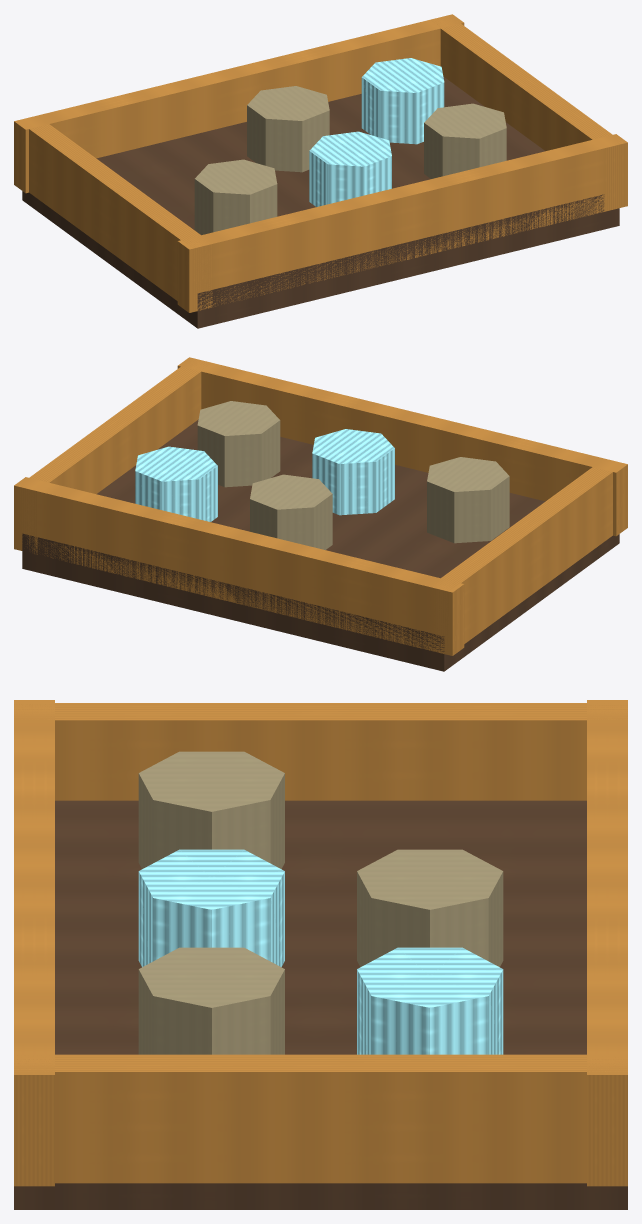
The model's file is atlas100-s014-a03.lod1.glb.
3 renders of one model, top to bottom at view 1: azimuth 30°, elevation 25°; view 2: azimuth 150°, elevation 25°; view 3: azimuth 270°, elevation 25°, orthographic. The views are drawn at different scales.
Parts seen in each view (by area): view 1: atlas100-s014-a03:part-000, atlas100-s014-a03:part-002, atlas100-s014-a03:part-001, atlas100-s014-a03:part-003, atlas100-s014-a03:part-004, atlas100-s014-a03:part-007, atlas100-s014-a03:part-006, atlas100-s014-a03:part-008, atlas100-s014-a03:part-009, atlas100-s014-a03:part-010; view 2: atlas100-s014-a03:part-001, atlas100-s014-a03:part-000, atlas100-s014-a03:part-002, atlas100-s014-a03:part-003, atlas100-s014-a03:part-004, atlas100-s014-a03:part-008, atlas100-s014-a03:part-009, atlas100-s014-a03:part-010, atlas100-s014-a03:part-006, atlas100-s014-a03:part-007; view 3: atlas100-s014-a03:part-000, atlas100-s014-a03:part-004, atlas100-s014-a03:part-003, atlas100-s014-a03:part-001, atlas100-s014-a03:part-002, atlas100-s014-a03:part-007, atlas100-s014-a03:part-010, atlas100-s014-a03:part-008, atlas100-s014-a03:part-006, atlas100-s014-a03:part-009.
Boxes of the visible parts, box(x1,y1,x2,y2) form: atlas100-s014-a03:part-000: box(22, 76, 619, 328); atlas100-s014-a03:part-002: box(177, 134, 627, 312); atlas100-s014-a03:part-001: box(14, 14, 464, 193); atlas100-s014-a03:part-003: box(29, 124, 212, 311); atlas100-s014-a03:part-004: box(430, 15, 624, 211); atlas100-s014-a03:part-007: box(361, 58, 444, 144); atlas100-s014-a03:part-006: box(247, 86, 329, 172); atlas100-s014-a03:part-008: box(194, 159, 277, 234); atlas100-s014-a03:part-009: box(309, 131, 391, 206); atlas100-s014-a03:part-010: box(424, 103, 506, 178); atlas100-s014-a03:part-001: box(14, 477, 464, 655); atlas100-s014-a03:part-000: box(22, 419, 619, 671); atlas100-s014-a03:part-002: box(177, 357, 627, 536); atlas100-s014-a03:part-003: box(429, 467, 612, 654); atlas100-s014-a03:part-004: box(17, 358, 211, 554); atlas100-s014-a03:part-008: box(427, 457, 509, 543); atlas100-s014-a03:part-009: box(312, 429, 394, 515); atlas100-s014-a03:part-010: box(197, 401, 280, 487); atlas100-s014-a03:part-006: box(250, 474, 332, 549); atlas100-s014-a03:part-007: box(135, 446, 217, 521); atlas100-s014-a03:part-000: box(14, 800, 627, 1209); atlas100-s014-a03:part-004: box(14, 1054, 627, 1183); atlas100-s014-a03:part-003: box(14, 703, 627, 800); atlas100-s014-a03:part-001: box(587, 700, 627, 1186); atlas100-s014-a03:part-002: box(14, 700, 54, 1186); atlas100-s014-a03:part-007: box(357, 947, 503, 1054); atlas100-s014-a03:part-010: box(138, 947, 284, 1054); atlas100-s014-a03:part-008: box(138, 751, 284, 868); atlas100-s014-a03:part-006: box(357, 849, 503, 967); atlas100-s014-a03:part-009: box(138, 849, 284, 967).
Size of the model in its own units: 1.36 by 0.2563 by 0.9414.
Materials: 4 (4 with a texture image).
